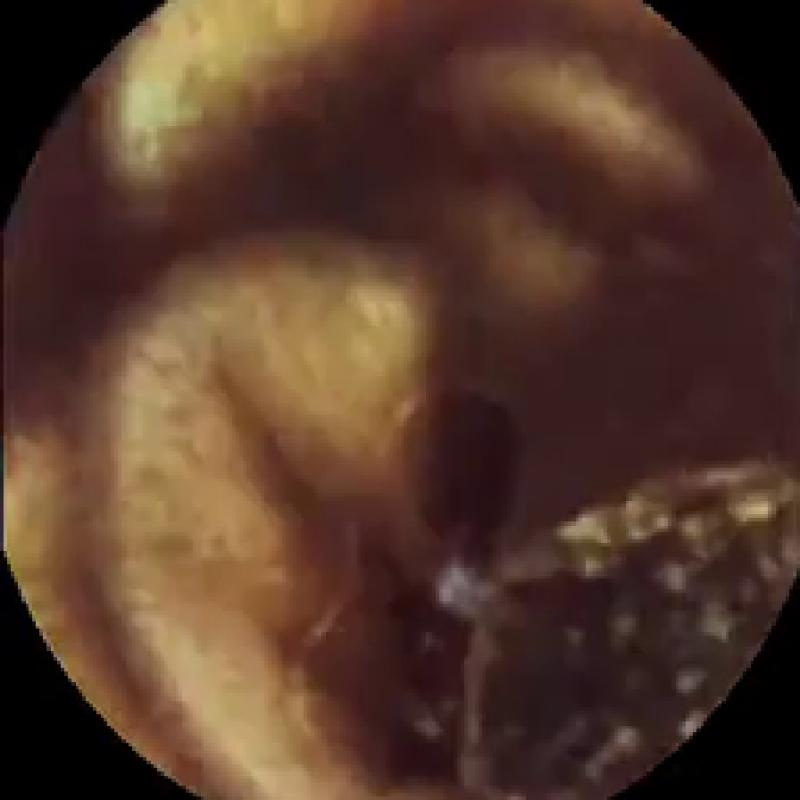bleeding: (343, 396, 518, 786)
